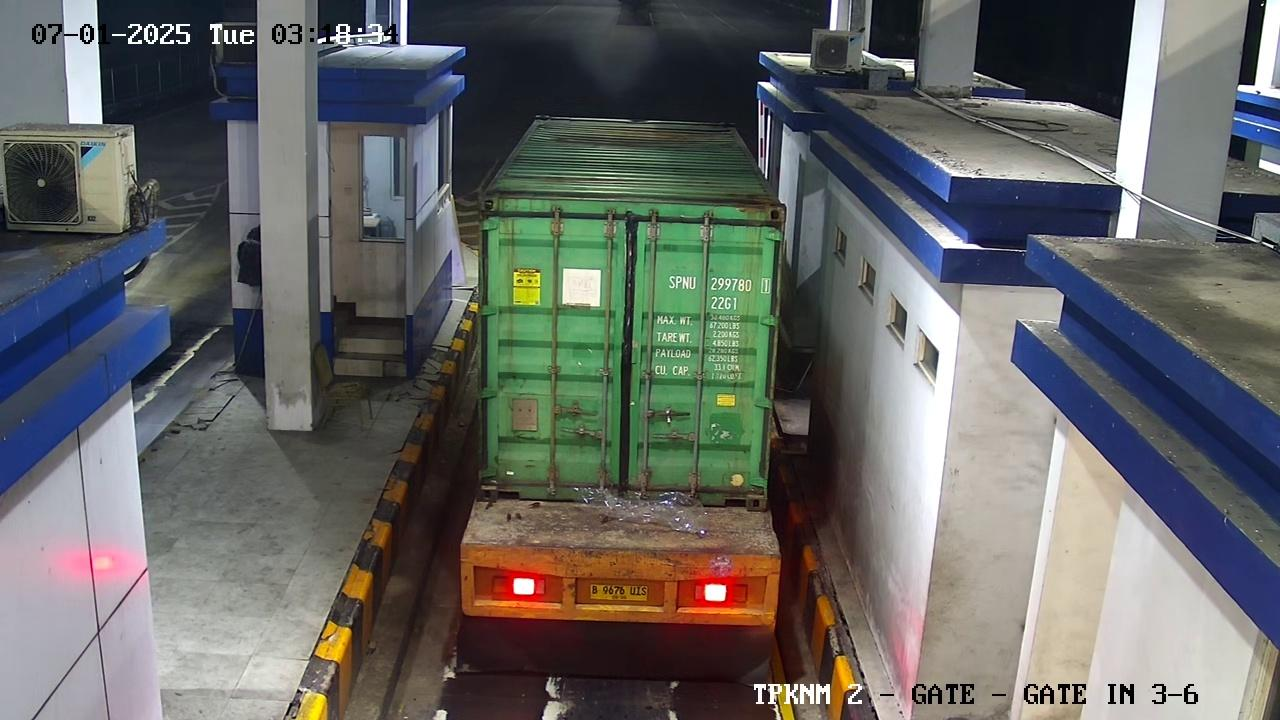Container_ID: (651, 259, 779, 320)
plate_number: (570, 577, 670, 609)
